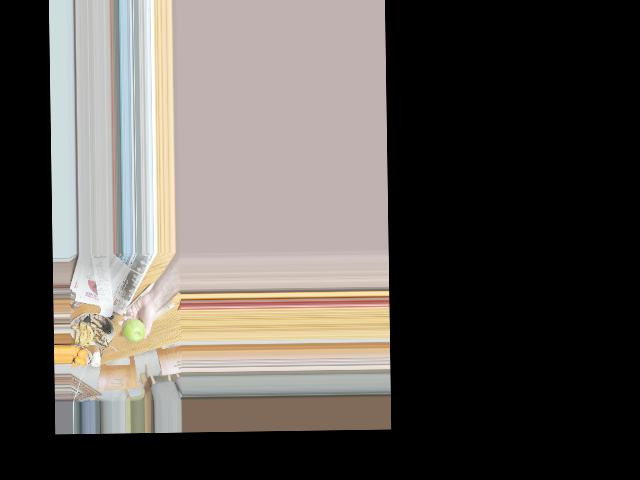apple: (122, 316, 145, 342)
